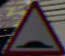Speed Breaker ahead: (4, 5, 60, 54)
